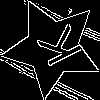K: (27, 22, 84, 73)
